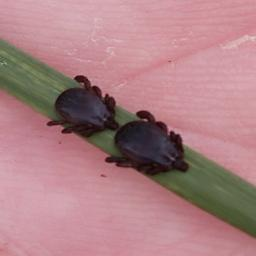Rhipicephalus sanguineus: (105, 109, 189, 176), (47, 75, 119, 138)
